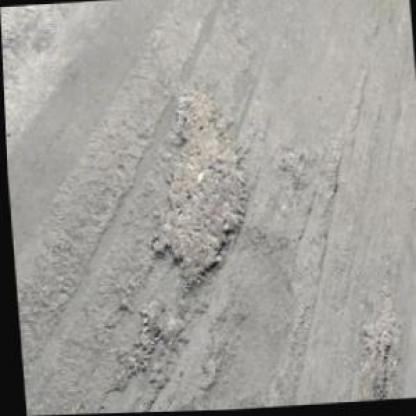pothole: (132, 79, 260, 300), (347, 280, 406, 402), (136, 294, 184, 356), (276, 144, 306, 196)
